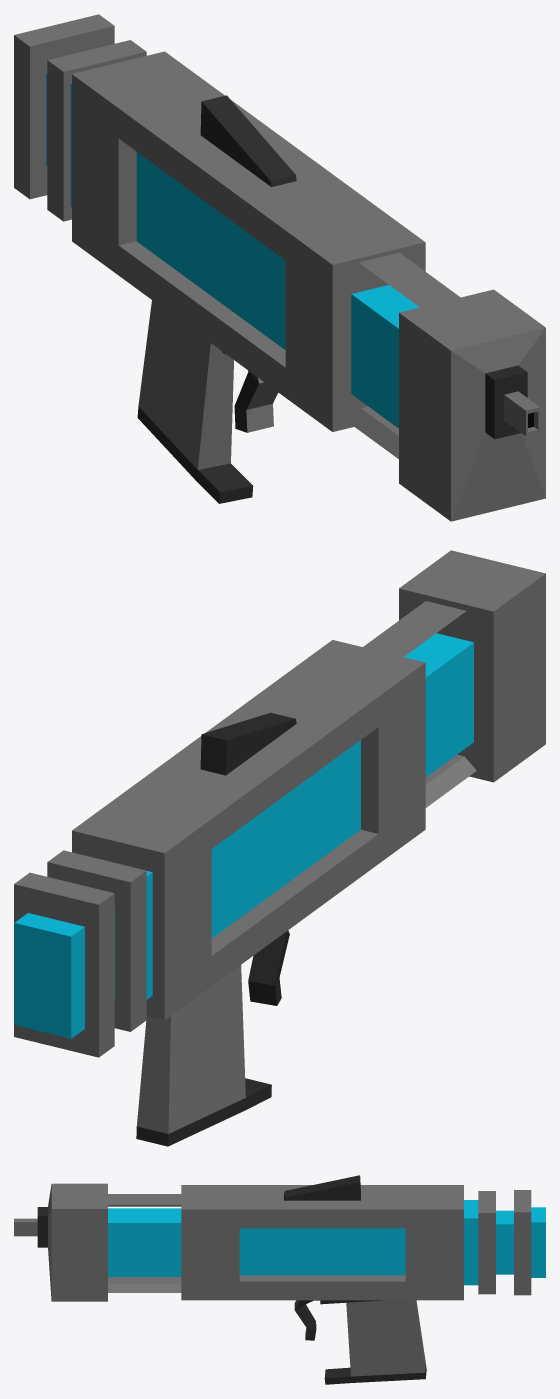
File: Model_The Rascal.fbx
3 views of the same model, one above another, from view 1: azimuth 30°, elevation 25°; view 2: azimuth 150°, elevation 25°; view 3: azimuth 270°, elevation 25° (orthographic). The views are drawn at different scales.
Visible parts, largest first — view 1: Cube; view 2: Cube; view 3: Cube.
Part boxes in pixels (box(x1,y1,x2,y2)): Cube: box(14, 14, 545, 521); Cube: box(14, 550, 545, 1146); Cube: box(14, 1175, 545, 1384).
Bounding box in the file's own units: 119 × 451 × 1063.
